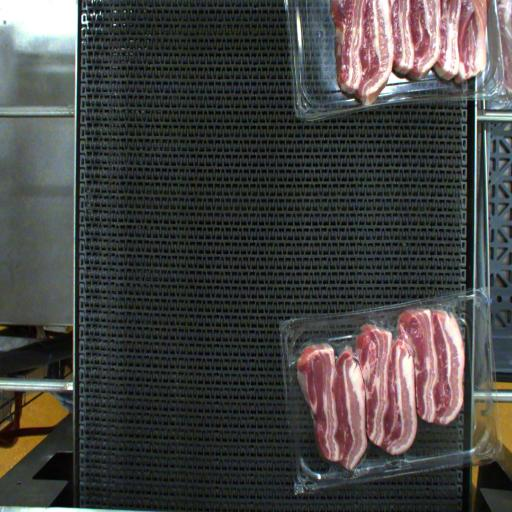unsealed: (354, 290, 470, 357)
